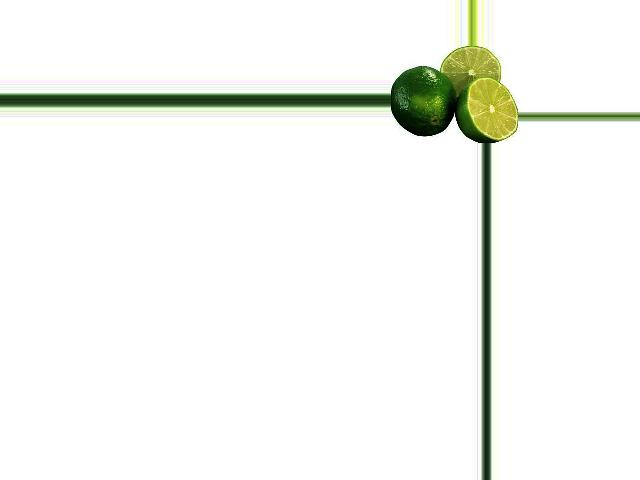lemon: (391, 67, 459, 134)
